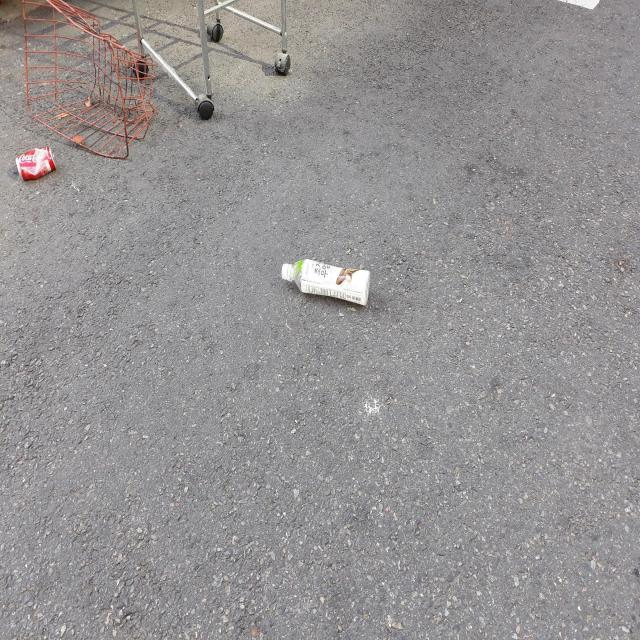can: (15, 147, 55, 179)
plastic: (282, 259, 371, 305)
